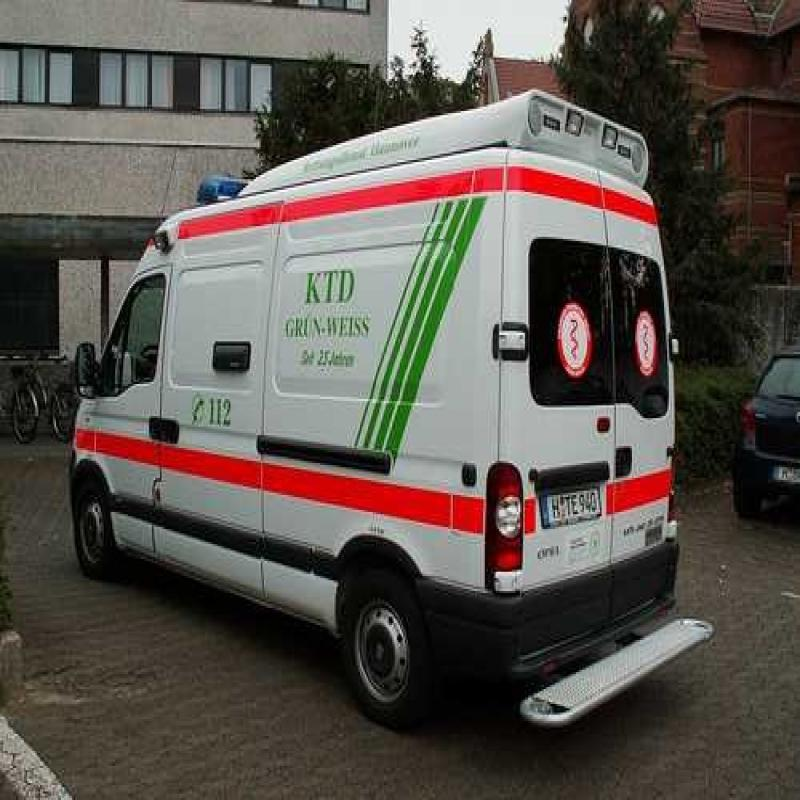AmbulanceSiren: (181, 166, 259, 205)
